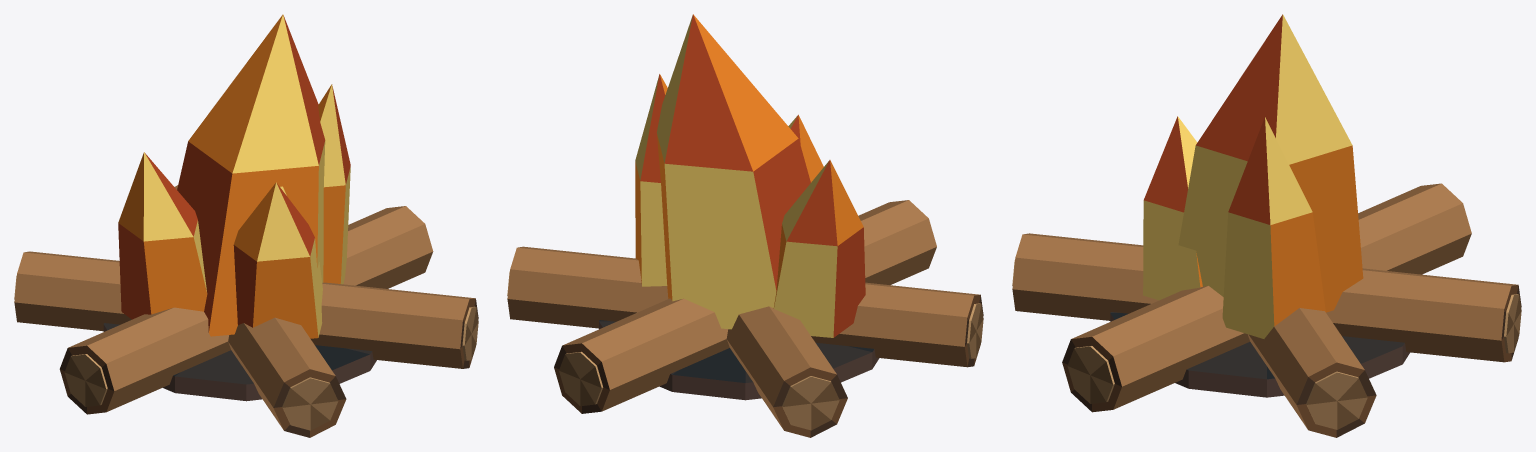
File: big_fire.fbx
The picture shows the model from 3 angles, left to right: view 1: azimuth 30°, elevation 25°; view 2: azimuth 150°, elevation 25°; view 3: azimuth 270°, elevation 25°; orthographic projection. The views are drawn at different scales.
Visible parts, largest first — view 1: big_fire_flames, big_fire_body; view 2: big_fire_body, big_fire_flames; view 3: big_fire_body, big_fire_flames.
Boxes of the visible parts, x1,y1,x2,y2 form: big_fire_flames: (118,14,350,338); big_fire_body: (14,185,478,437); big_fire_body: (507,200,983,437); big_fire_flames: (635,14,865,337); big_fire_body: (1012,183,1521,437); big_fire_flames: (1143,14,1363,338).
Bounding box in the file's own units: 3.02 × 2.26 × 3.03.
1 material, 1 textured.
